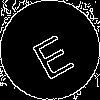E: (25, 25, 76, 82)
